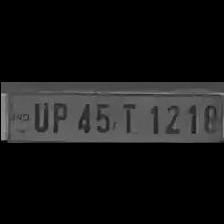1: (140, 100, 160, 134), (182, 100, 200, 134)
2: (161, 100, 183, 134)
4: (70, 99, 92, 134)
5: (90, 99, 113, 134)
P: (47, 98, 69, 132)
T: (116, 98, 140, 134)
U: (28, 98, 48, 132)
